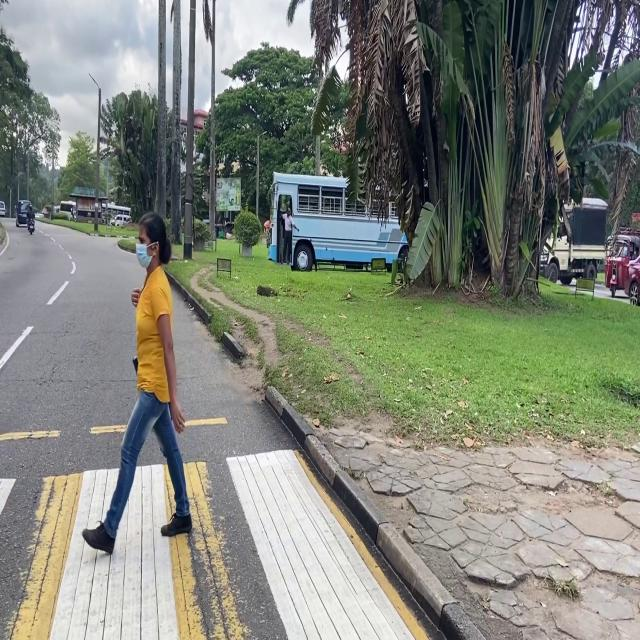bus: (269, 172, 403, 271), (102, 203, 131, 216), (60, 201, 76, 219)
car: (625, 256, 640, 305)
motorcycle: (27, 217, 35, 235)
person: (83, 212, 192, 553), (281, 208, 298, 264), (26, 204, 35, 225)
three wheeler: (605, 228, 640, 297), (216, 224, 223, 238)
truck: (541, 197, 632, 285)
van: (16, 200, 30, 227), (110, 214, 130, 226), (0, 200, 6, 216)
